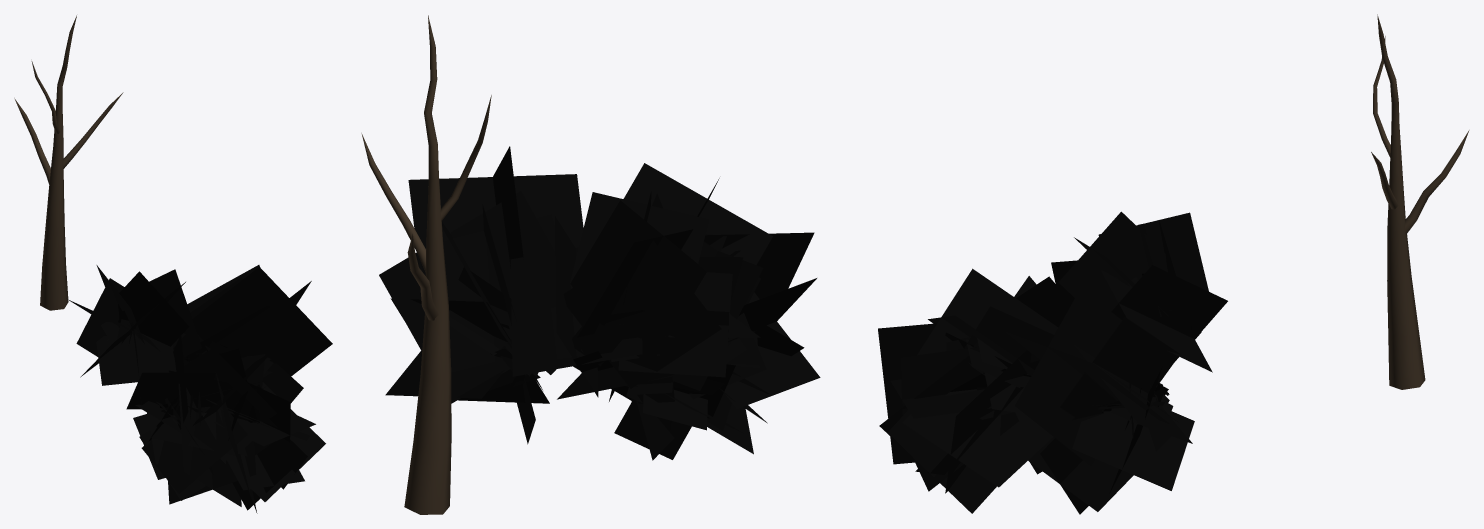
Rendered from no_leaves_tree_four.glb.
3 views of the same model, side by side, from view 1: azimuth 30°, elevation 25°; view 2: azimuth 150°, elevation 25°; view 3: azimuth 270°, elevation 25° (orthographic). The views are drawn at different scales.
Parts seen in each view (by area): view 1: leaves.007_18.003, trunk.007_19.003; view 2: leaves.007_18.003, trunk.007_19.003; view 3: leaves.007_18.003, trunk.007_19.003.
Part boxes in pixels (<box>): leaves.007_18.003: <box>67,265,332,513</box>; trunk.007_19.003: <box>14,15,123,310</box>; leaves.007_18.003: <box>379,146,820,460</box>; trunk.007_19.003: <box>361,15,491,514</box>; leaves.007_18.003: <box>878,211,1227,514</box>; trunk.007_19.003: <box>1371,14,1469,389</box>.
Bounding box in the file's own units: 46.99 × 77.02 × 89.37.
Materials: 2 (2 with a texture image).
